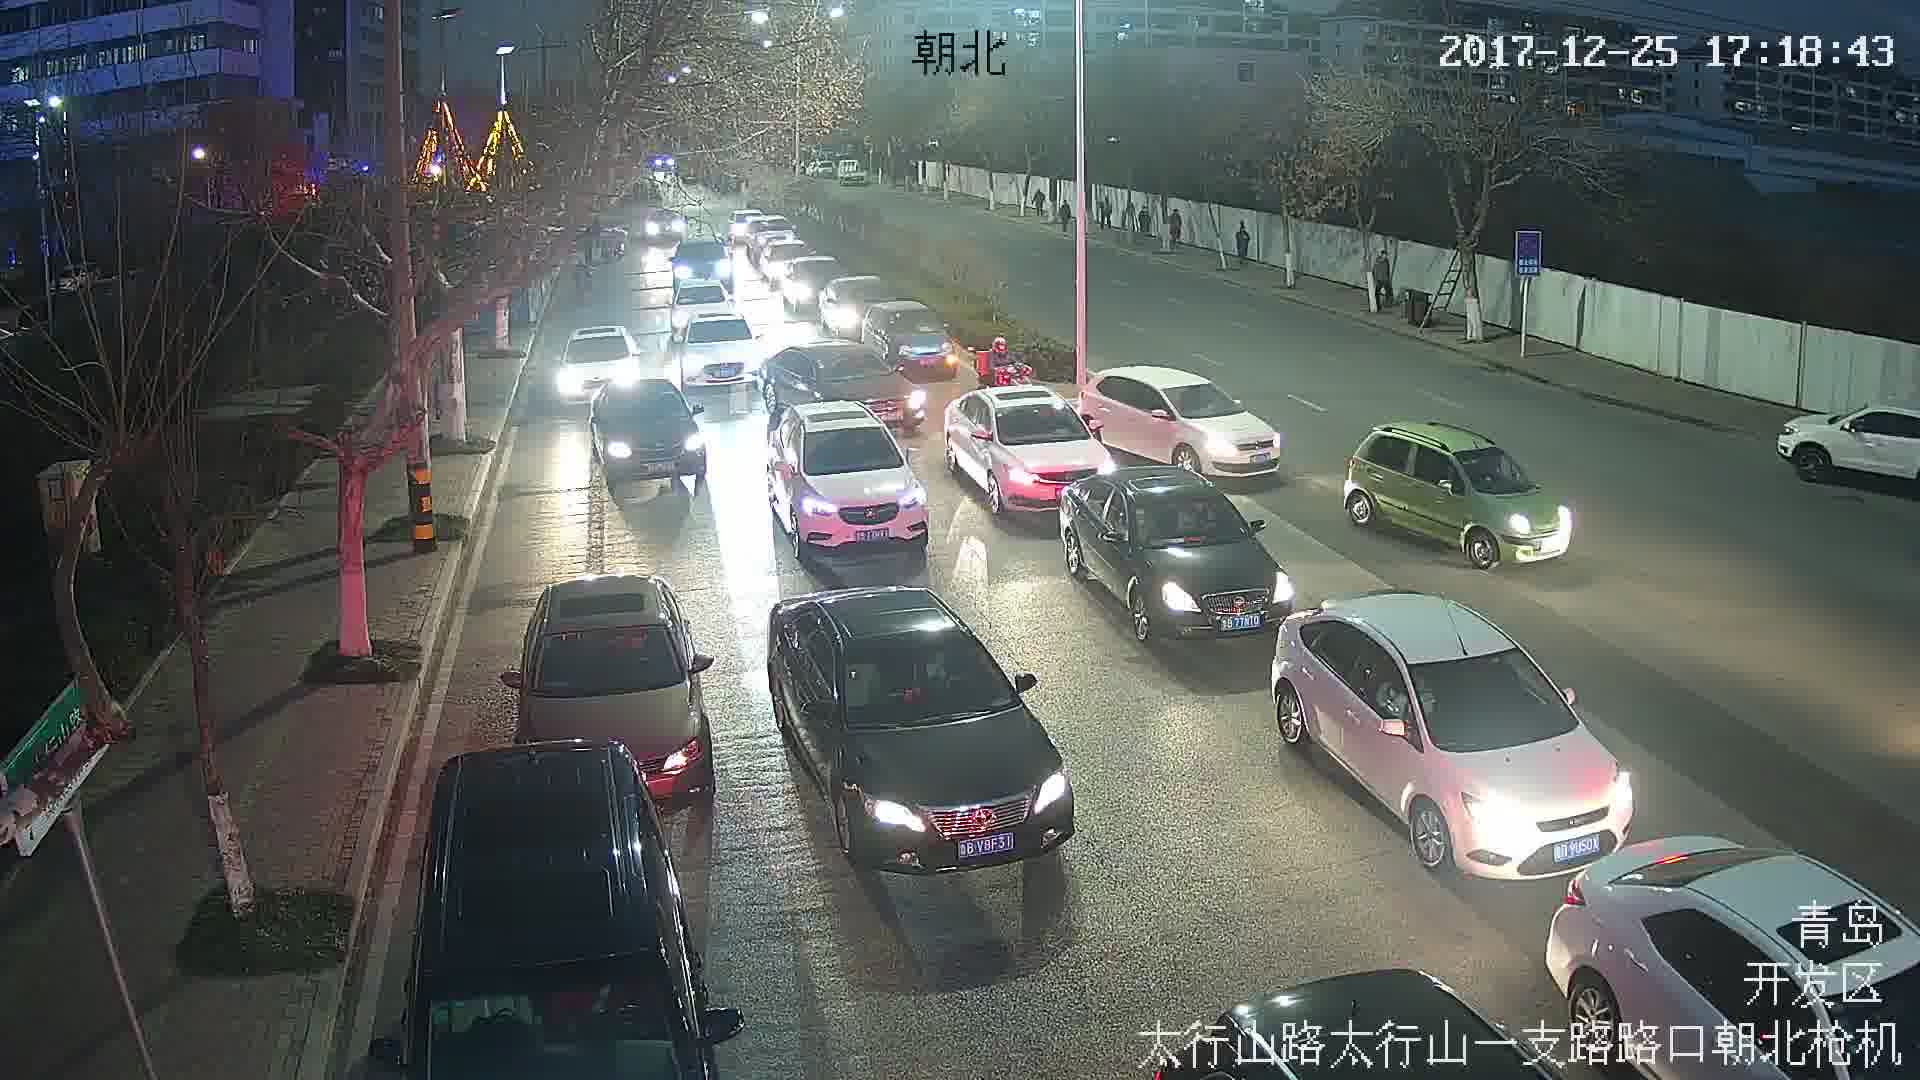car: (1275, 591, 1637, 880), (768, 587, 1078, 880), (502, 575, 724, 810), (1062, 466, 1299, 645), (1342, 421, 1573, 575), (773, 402, 927, 557), (1085, 367, 1284, 482), (946, 382, 1112, 510), (588, 375, 706, 478)
